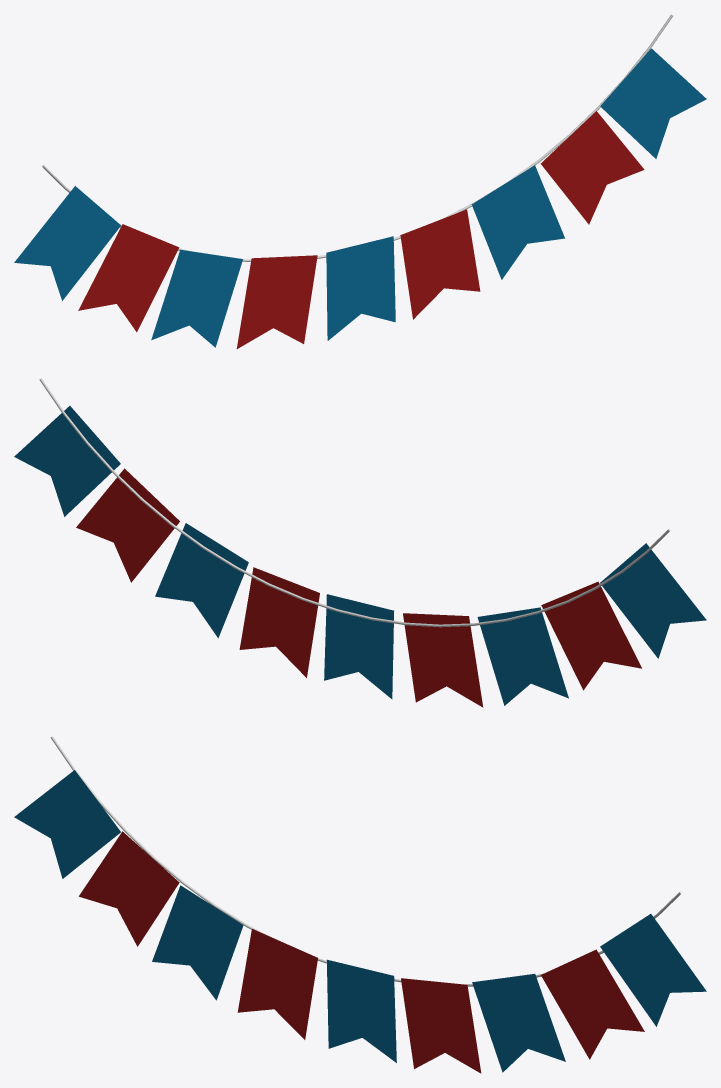
The model's file is TitleFlags.FBX.
3 views of the same model, one above another, from view 1: azimuth 30°, elevation 25°; view 2: azimuth 150°, elevation 25°; view 3: azimuth 330°, elevation 25° (orthographic).
Parts seen in each view (by area): view 1: TitleFlags1; view 2: TitleFlags1; view 3: TitleFlags1.
Boxes of the visible parts, left/top/right/bottom form: TitleFlags1: left=14, top=14, right=706, bottom=348; TitleFlags1: left=14, top=378, right=706, bottom=707; TitleFlags1: left=14, top=736, right=706, bottom=1073.
Bounding box in the file's own units: 35.98 × 12 × 0.507.
